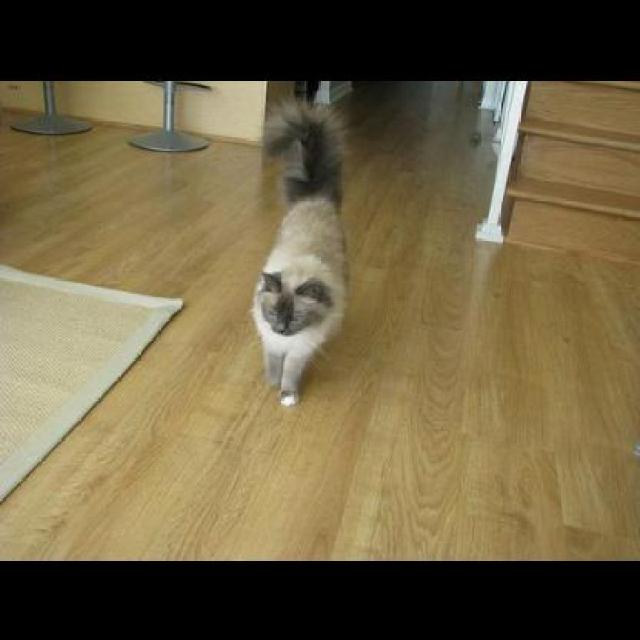unauthorized: (248, 89, 350, 408)
